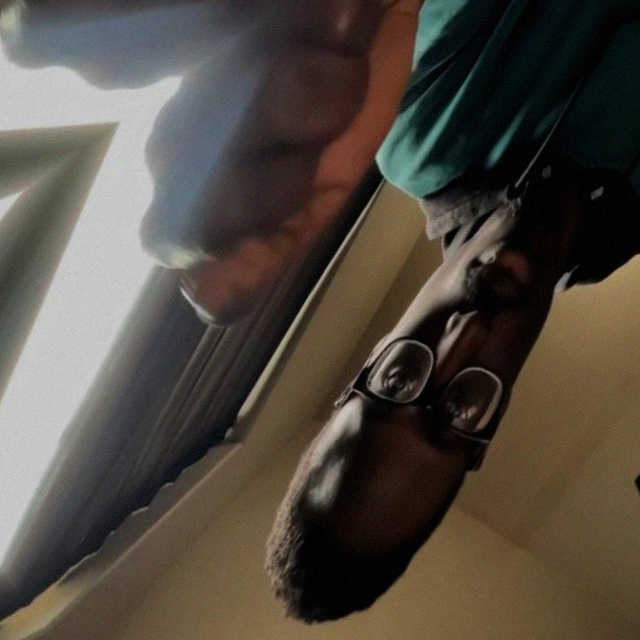Rock: (0, 0, 415, 198)
